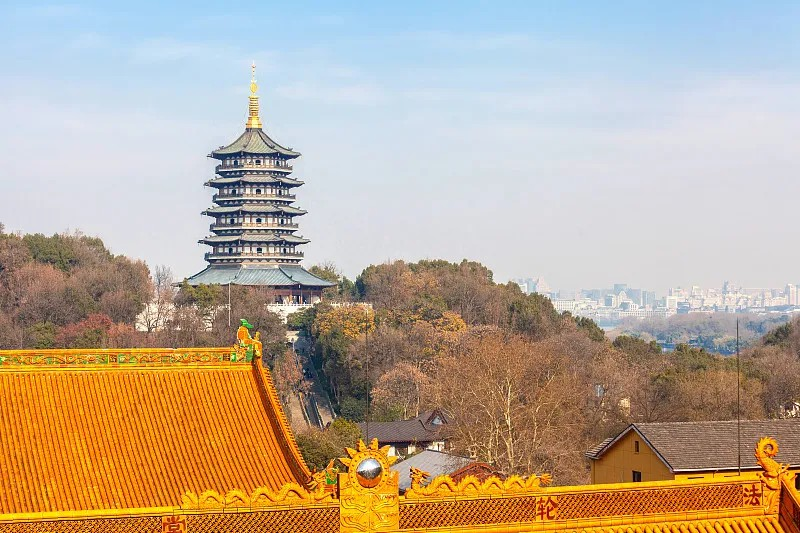Leifeng: (169, 62, 337, 306)
